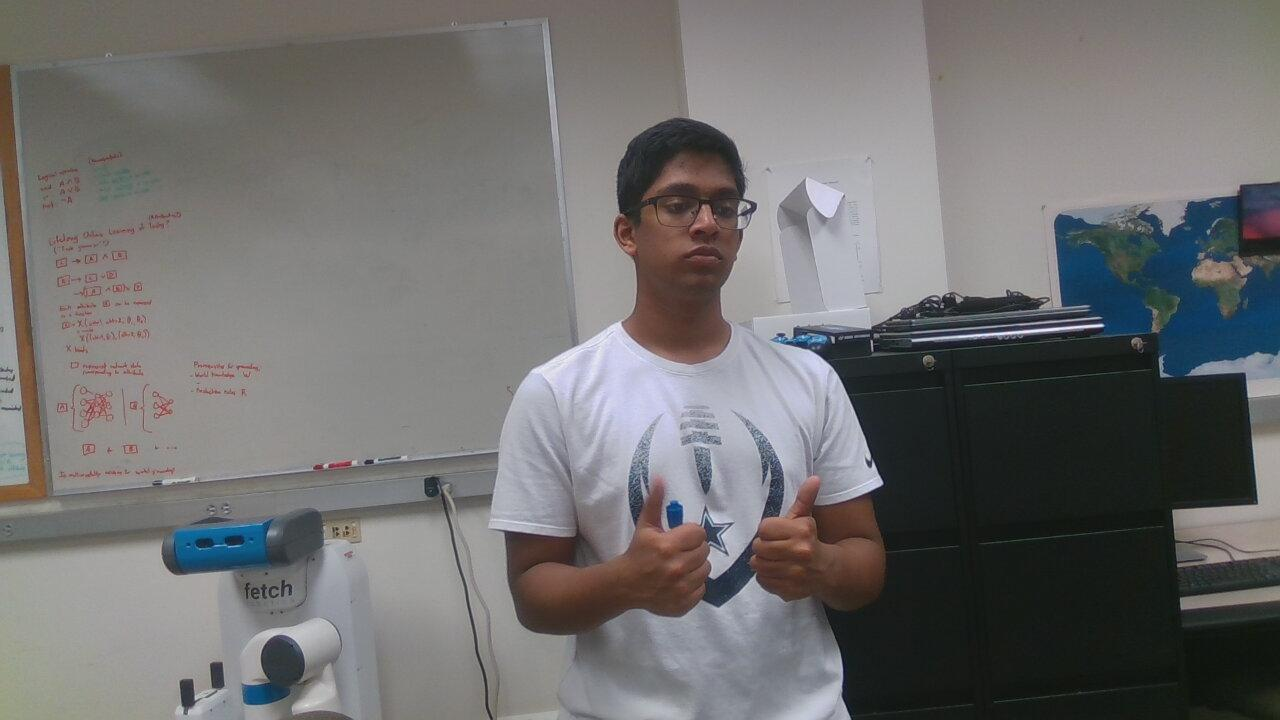hands: (730, 472, 871, 626), (612, 472, 719, 649)
